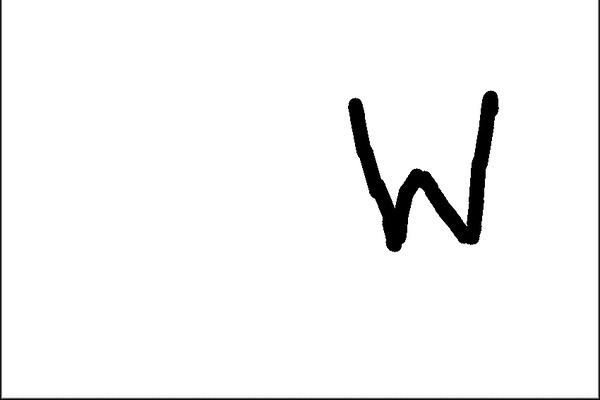w: (302, 58, 515, 269)
